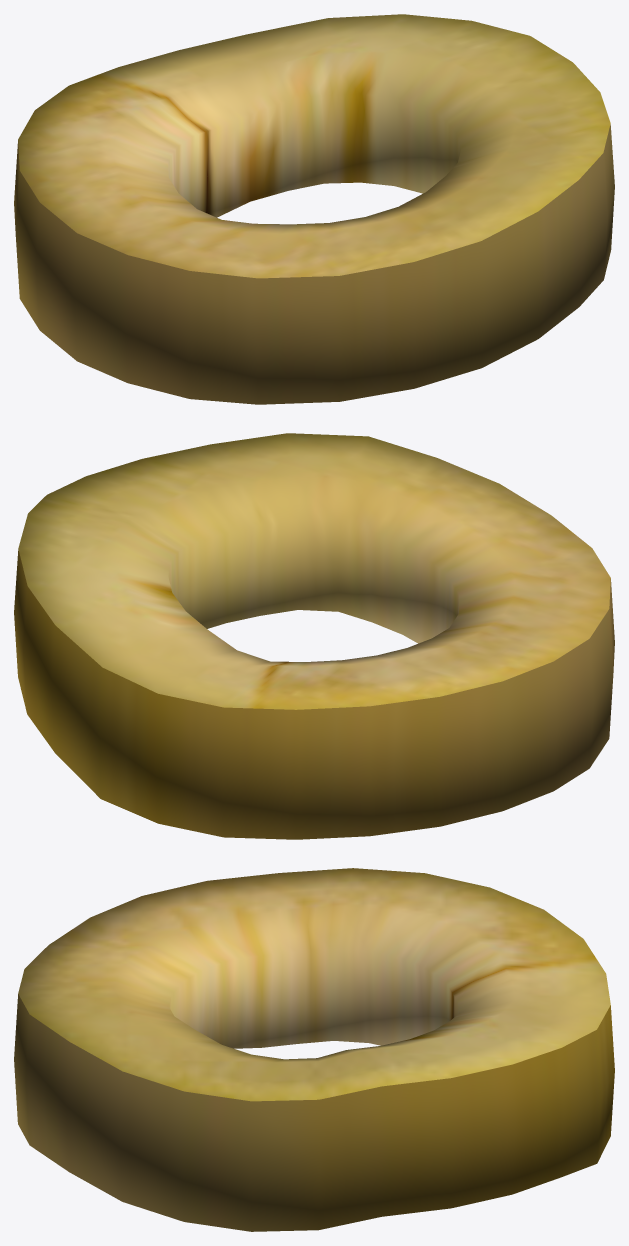
The model's file is green_olive.fbx.
The picture shows the model from 3 angles, top to bottom: view 1: azimuth 30°, elevation 25°; view 2: azimuth 150°, elevation 25°; view 3: azimuth 270°, elevation 25°; orthographic projection. The views are drawn at different scales.
Visible parts, largest first — view 1: Torus; view 2: Torus; view 3: Torus.
Part boxes in pixels (x1,y1,x2,y2): Torus: (14,14,614,404); Torus: (14,433,614,839); Torus: (14,868,614,1231).
Size of the model in its own units: 247 by 74.58 by 239.
Materials: 1 (1 with a texture image).
